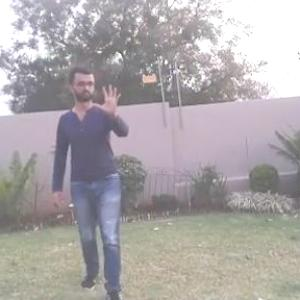follow_hand: (93, 80, 124, 116)
